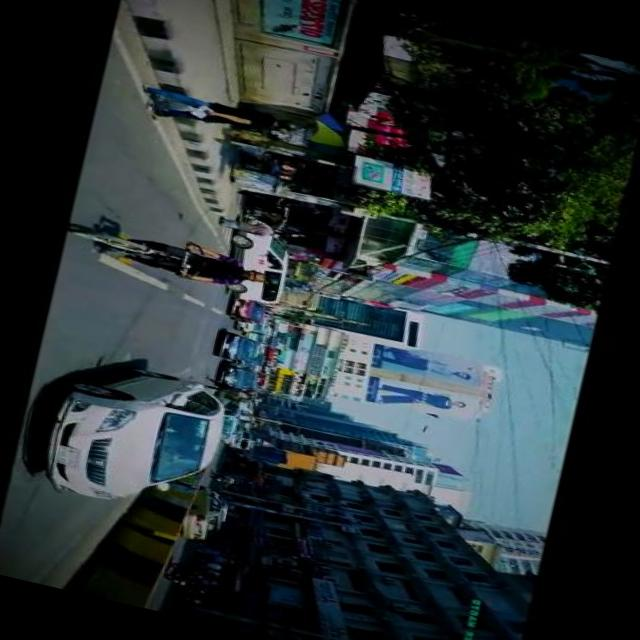car: (42, 352, 234, 526), (182, 486, 232, 548), (218, 332, 264, 369), (220, 364, 262, 394), (228, 298, 268, 328)
motorcycle: (164, 560, 202, 591), (212, 473, 234, 487)
truck: (222, 216, 298, 308), (231, 432, 257, 454)
